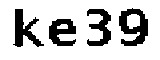3: (82, 7, 113, 49)
9: (117, 5, 152, 51)
e: (47, 18, 78, 48)
k: (12, 5, 44, 48)
